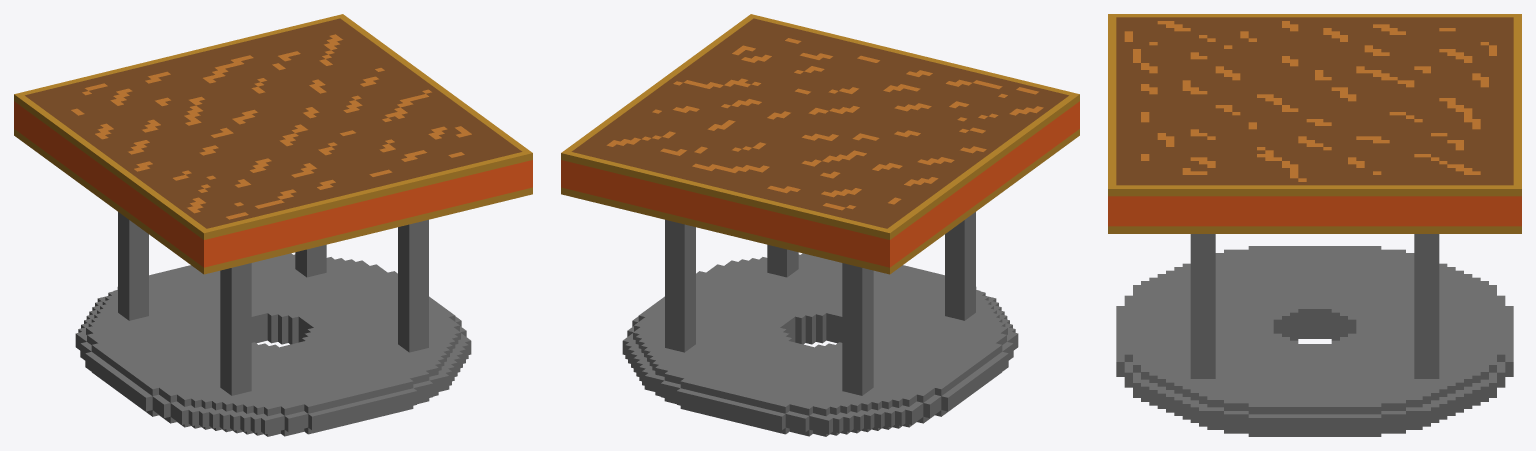
File: крутящий елемент (платформа).obj
3 renders of one model, left to right at view 1: azimuth 30°, elevation 25°; view 2: azimuth 150°, elevation 25°; view 3: azimuth 270°, elevation 25°, orthographic. The views are drawn at different scales.
Size of the model in its own units: 5 by 3.4 by 5.
1 material, 1 textured.
